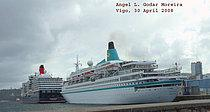Ship: (61, 39, 194, 109), (18, 60, 67, 107)
